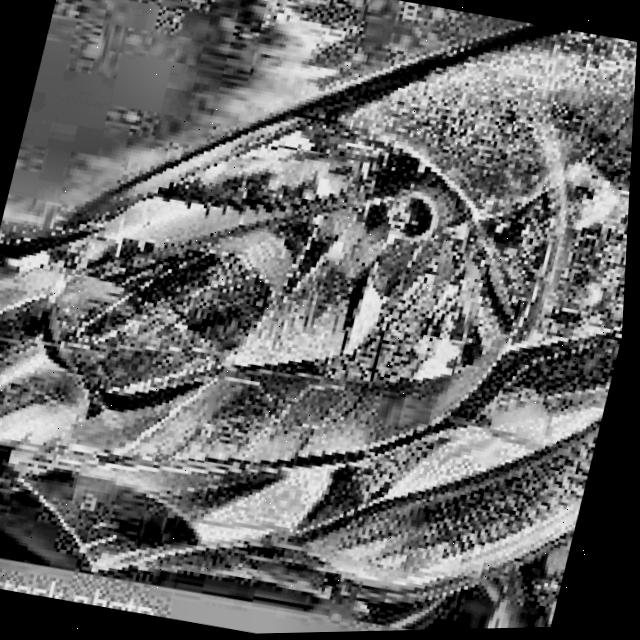head_lamp: (136, 114, 534, 456)
